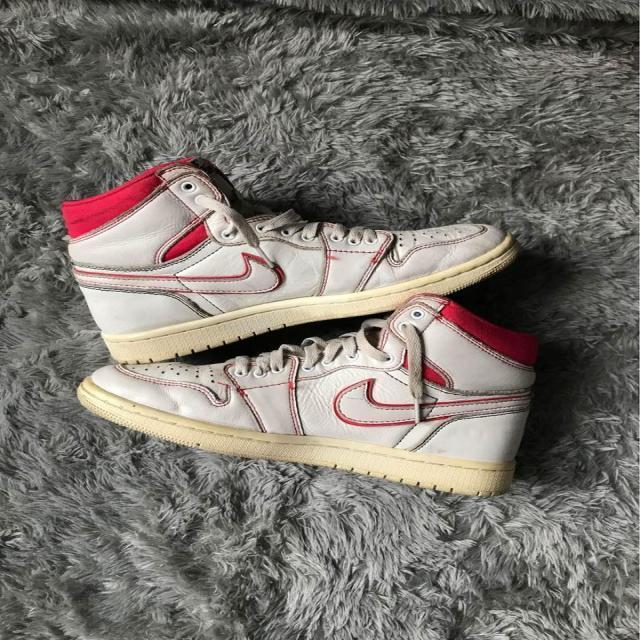nike original jordan 1: (60, 156, 518, 366), (73, 294, 527, 498)
